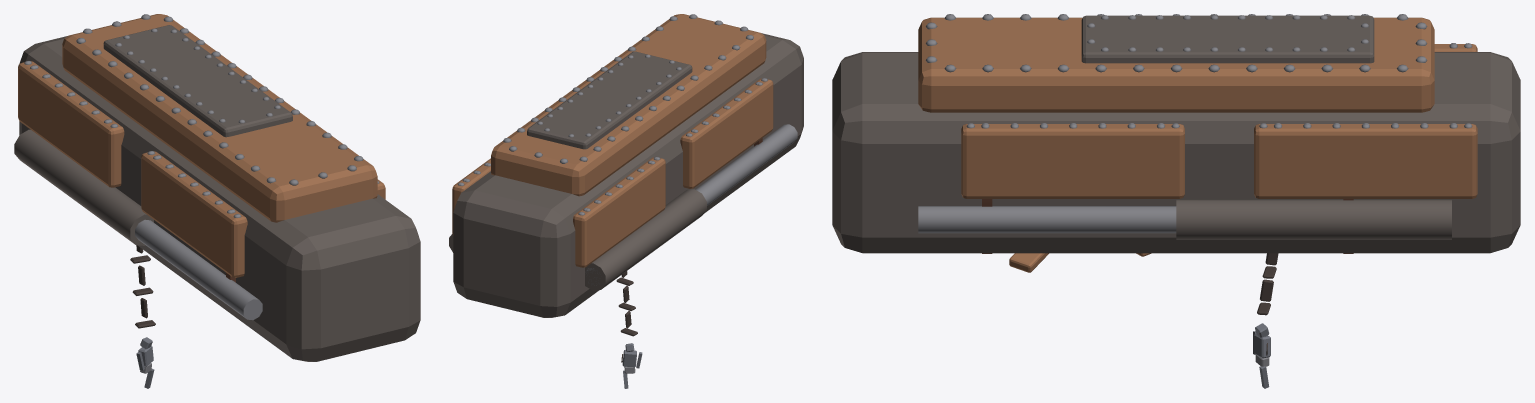
The model's file is gleaner_upperarm.glb.
3 renders of one model, left to right at view 1: azimuth 30°, elevation 25°; view 2: azimuth 150°, elevation 25°; view 3: azimuth 270°, elevation 25°, orthographic. The views are drawn at different scales.
Visible parts, largest first — view 1: gl_iron, gl_rust, gl_iron.001, gl_rust.002, gl_rust.001, gl_iron.002, gl_steel.056; view 2: gl_iron, gl_rust, gl_iron.001, gl_rust.002, gl_rust.001, gl_iron.002, gl_steel.056, gl_rust.003; view 3: gl_iron, gl_rust, gl_rust.004, gl_rust.003, gl_iron.001, gl_iron.003, gl_steel.093.
Part boxes in pixels (box(x1,y1,x2,y2)): gl_iron: box(19, 36, 420, 361); gl_rust: box(62, 14, 377, 222); gl_iron.001: box(103, 25, 292, 137); gl_rust.002: box(141, 151, 247, 277); gl_rust.001: box(18, 61, 124, 187); gl_iron.002: box(14, 129, 153, 245); gl_steel.056: box(135, 219, 262, 320); gl_iron: box(453, 33, 803, 317); gl_rust: box(491, 14, 766, 196); gl_iron.001: box(527, 51, 692, 149); gl_rust.002: box(680, 78, 773, 188); gl_rust.001: box(573, 157, 665, 267); gl_iron.002: box(585, 189, 706, 290); gl_steel.056: box(585, 124, 797, 285); gl_rust.003: box(452, 158, 490, 235); gl_iron: box(832, 52, 1520, 253); gl_rust: box(918, 17, 1434, 112); gl_rust.004: box(961, 124, 1184, 198); gl_rust.003: box(1254, 124, 1477, 198); gl_iron.001: box(1081, 15, 1374, 63); gl_iron.003: box(1176, 199, 1451, 239); gl_steel.093: box(918, 206, 1176, 233).
Bounding box in the file's own units: 28.57 × 48.23 × 80.
